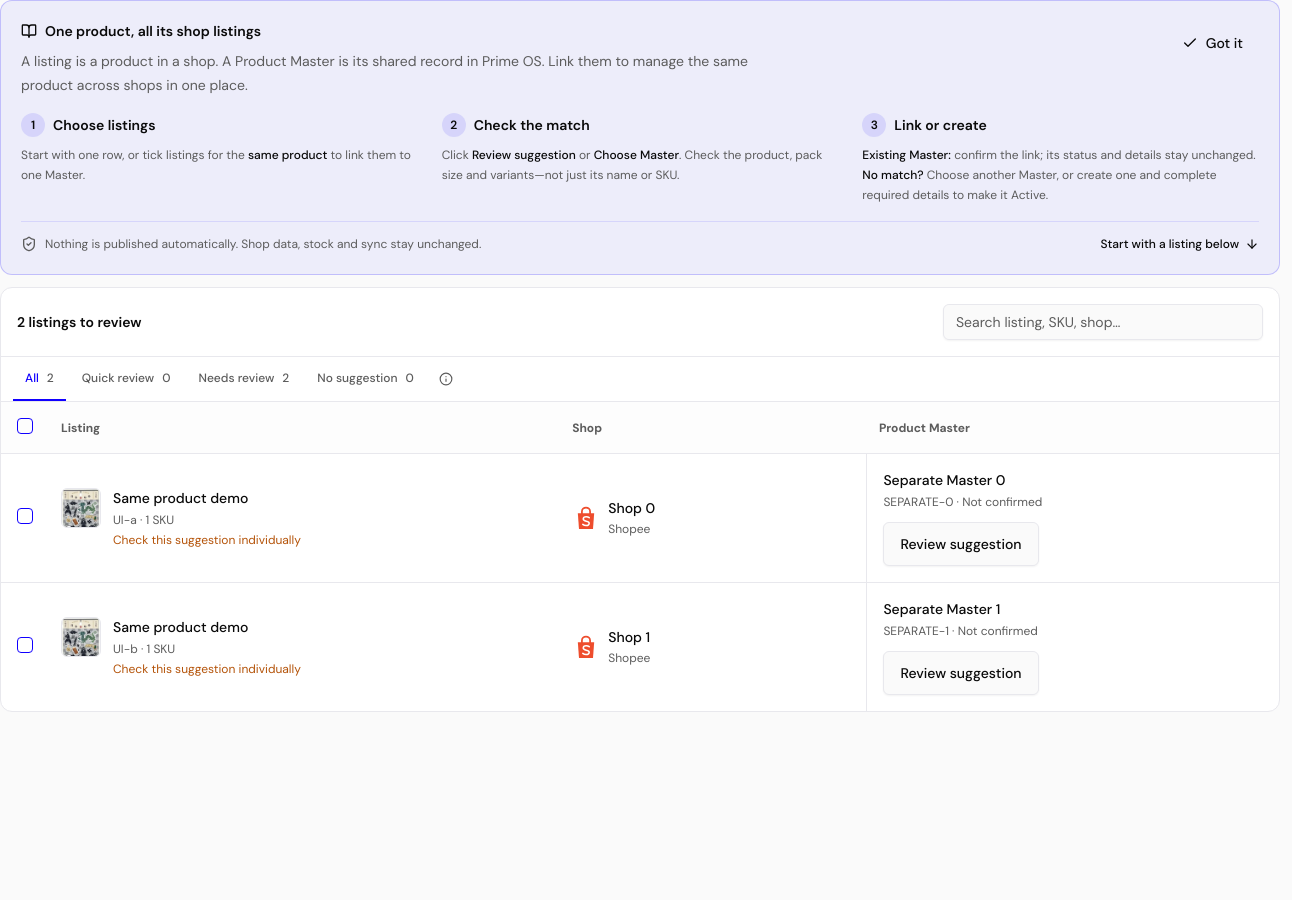
Test: Listing review drawer › reviews different Masters from their row actions without automatically opening the next listing
Click the button "Review suggestion" below "SEPARATE-0". click: (961, 544)
box: [883,522,1038,566]
(page scrolled)
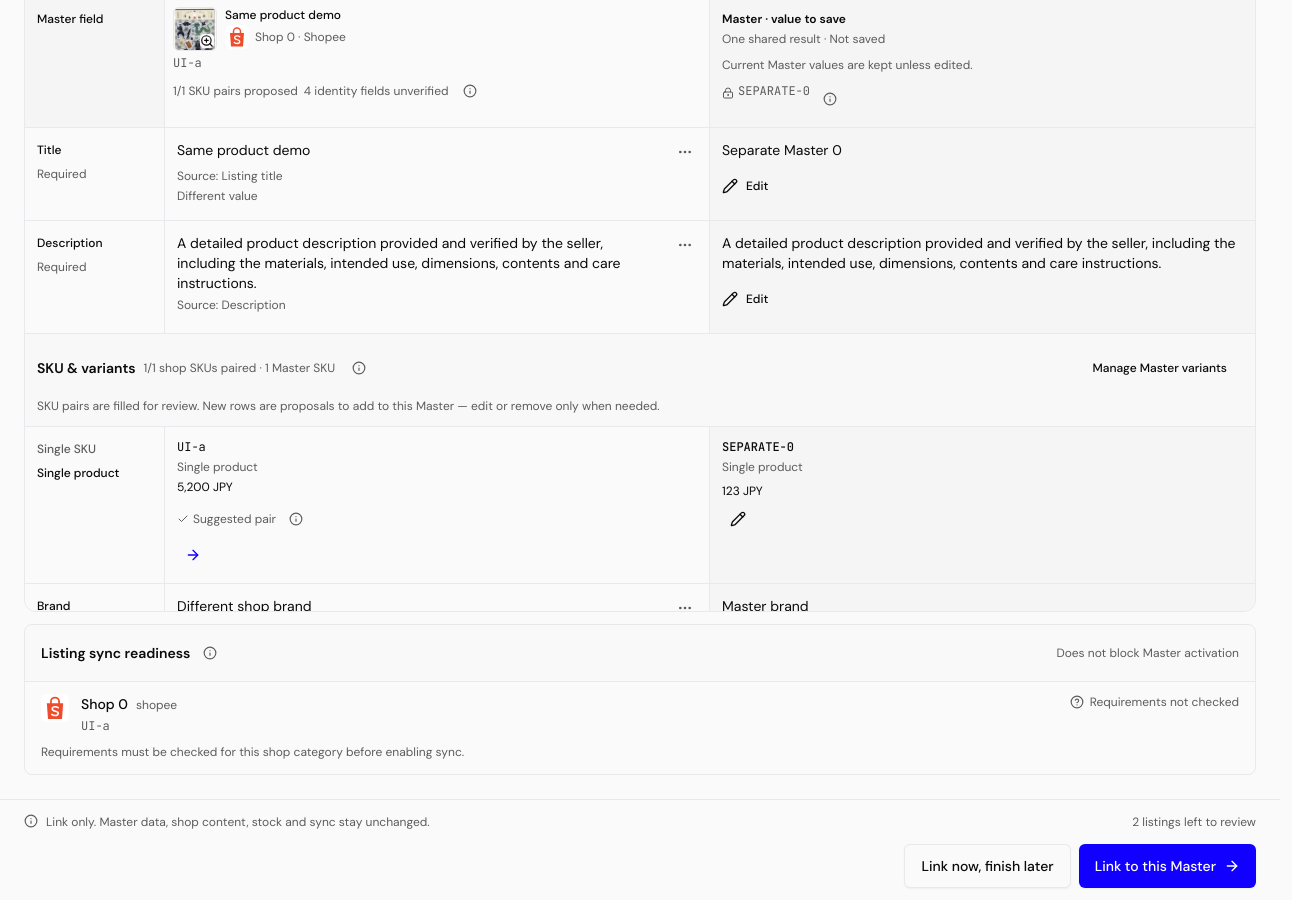
Check: the text "Separate Master 0" is shown, box [722,141,842,159]
Check: the text "Separate Master 1" is gone
Click the button "Link to this Master". click: (1167, 866)
box: [1079,844,1256,888]
(page scrolled)
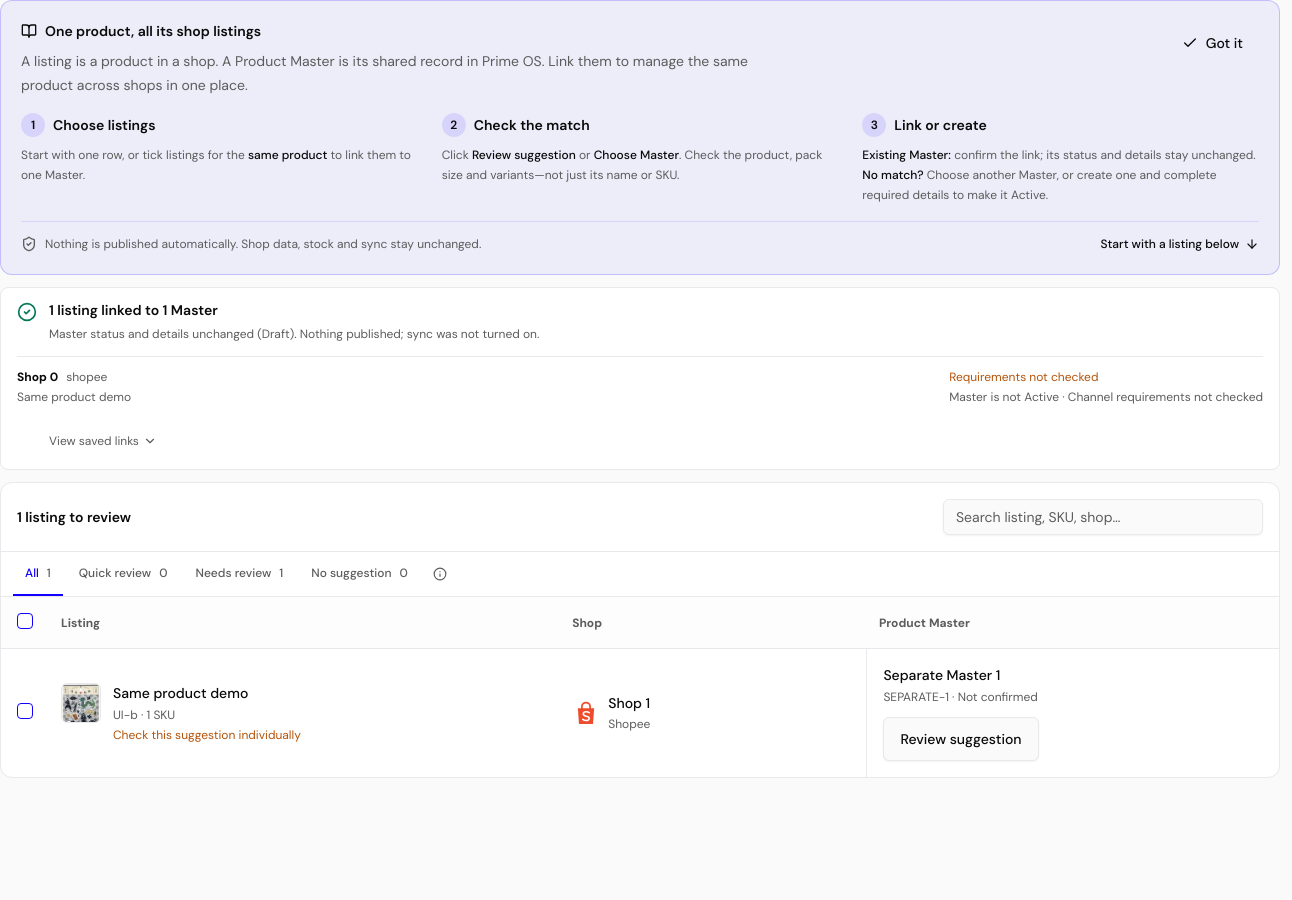
Check: the heading "1 listing to review" is shown, box [17,507,131,527]
Click the button "Review suggestion". click: (961, 739)
box: [883,717,1038,761]
(page scrolled)
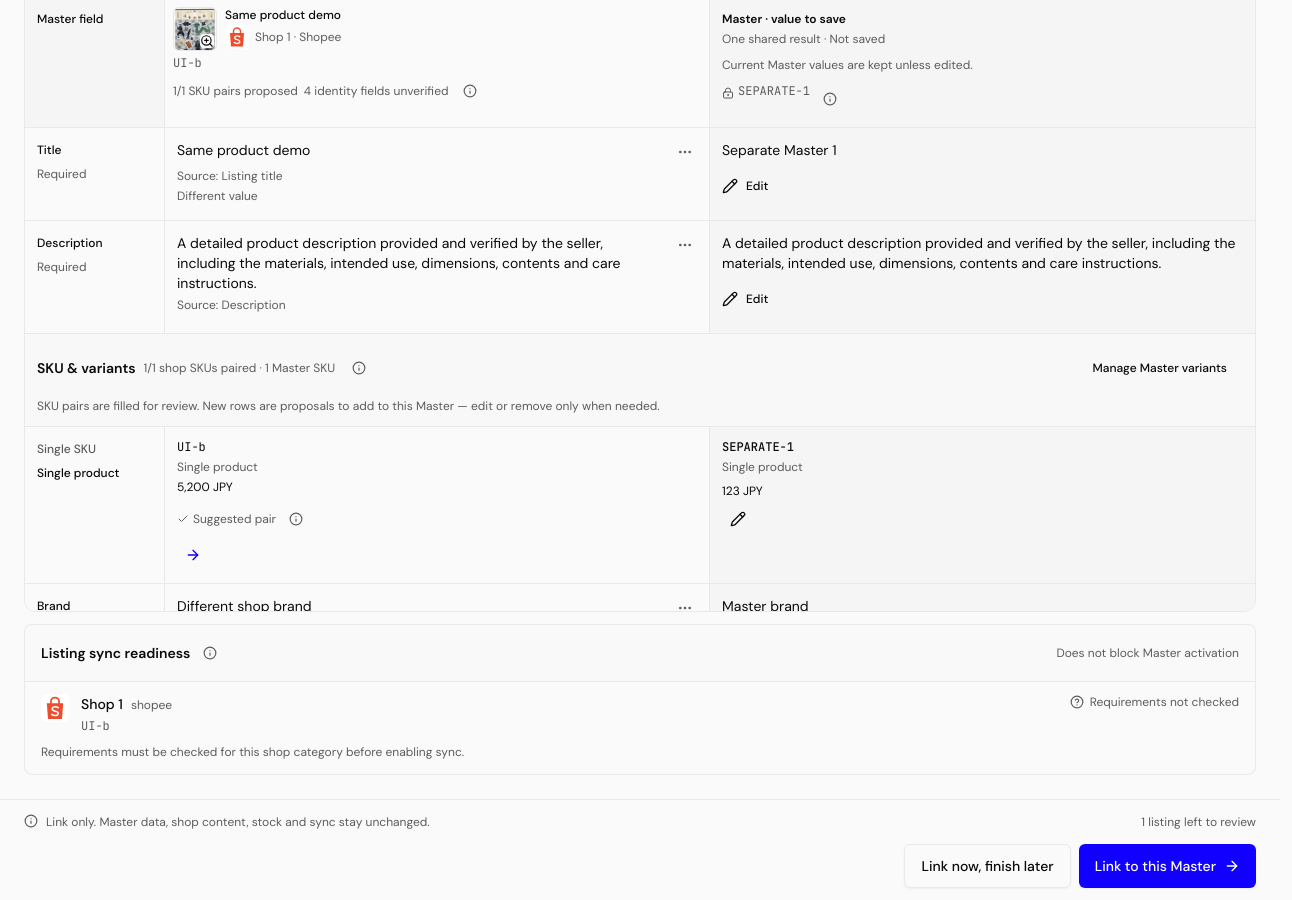
Click the button "Link to this Master". click: (1167, 866)
box: [1079,844,1256,888]
(page scrolled)
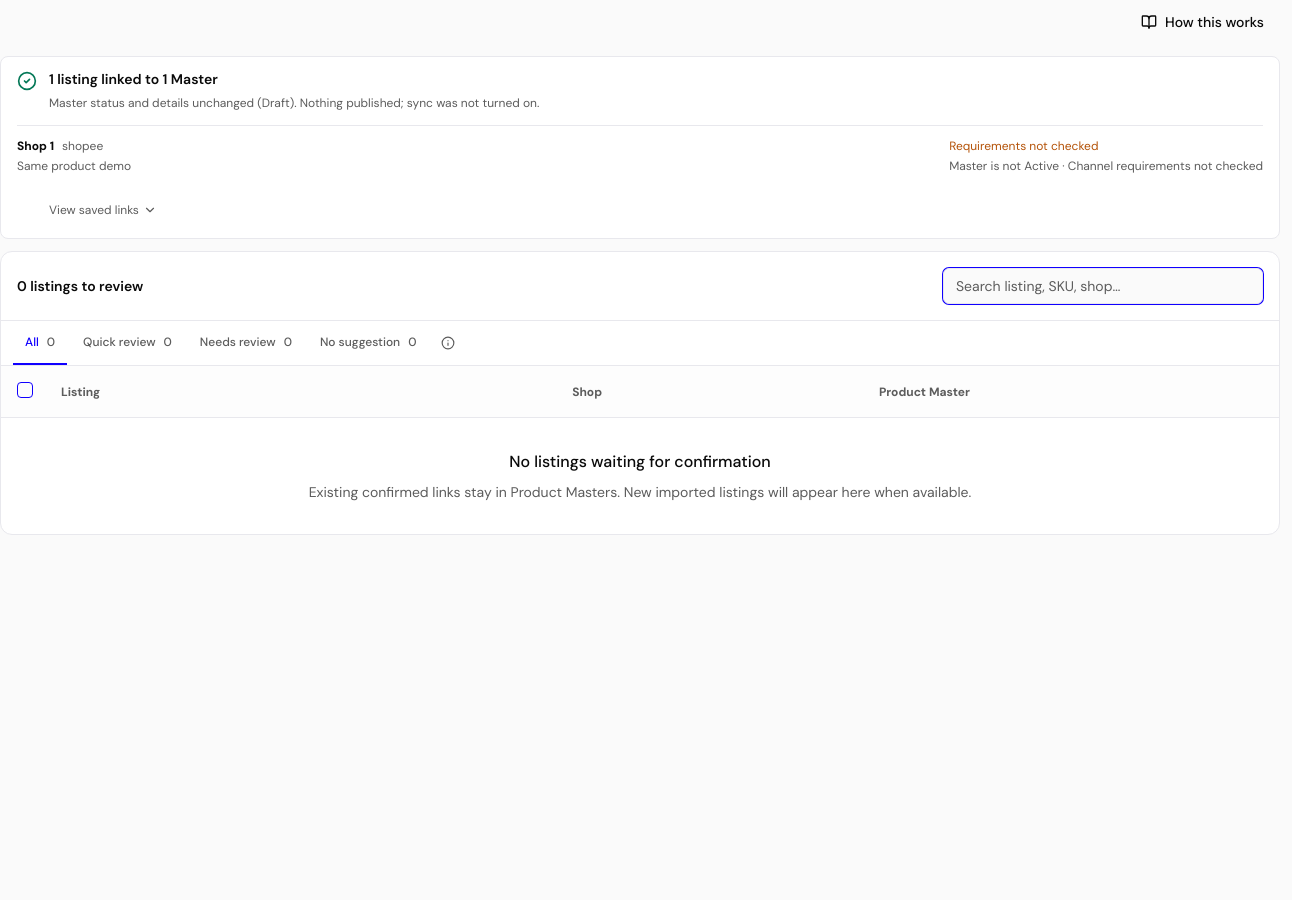
Check: the element named "Saved review result" shows "1 listing linked to 1 Master", box [0,56,1280,239]
